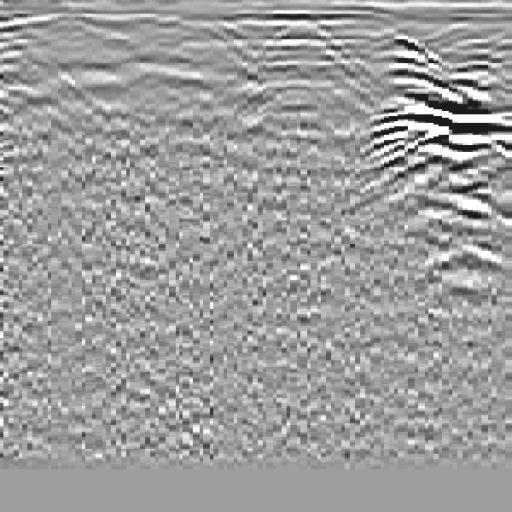metalic: (349, 37, 512, 194)
